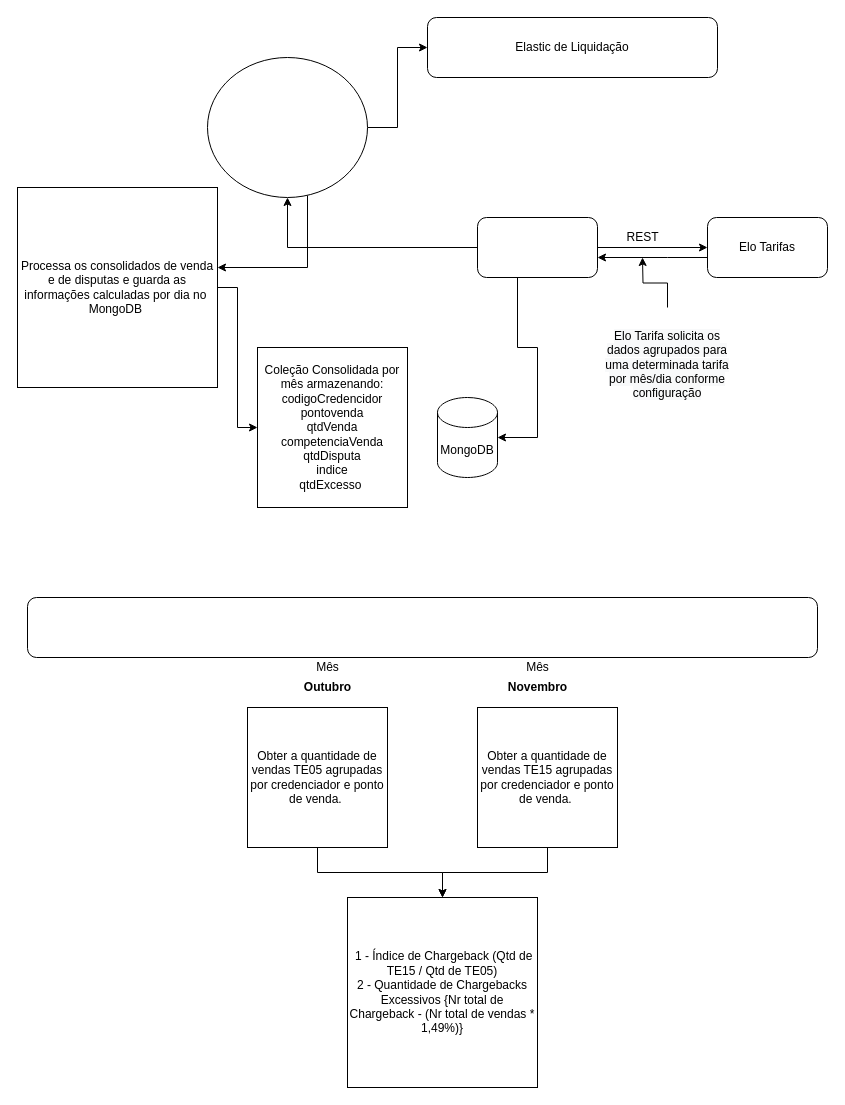
This 845x1105 diagram has some shape labels left out. Here are the shapes that lost their labels. From the top down, the centre of each, then its label:
At point 287,127: "Job executa mensal".
At point 537,247: "Elo Sumarizador".
At point 422,627: "Programa Excesso de Disputas".
